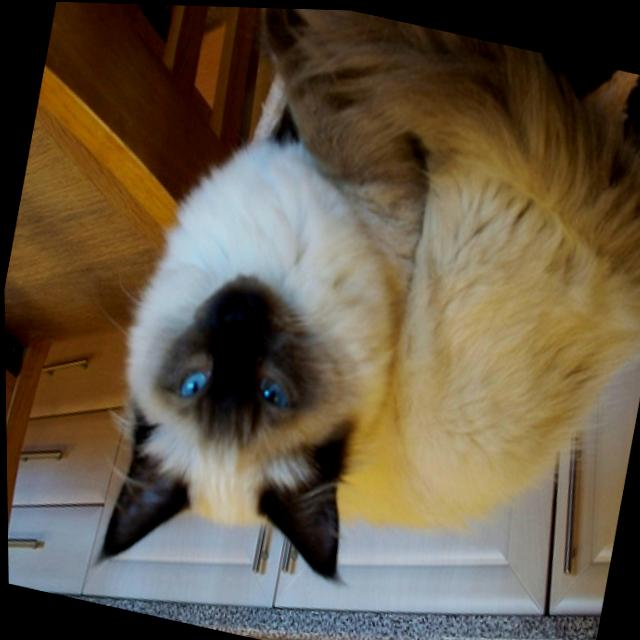Ragdoll: (70, 2, 640, 640)
